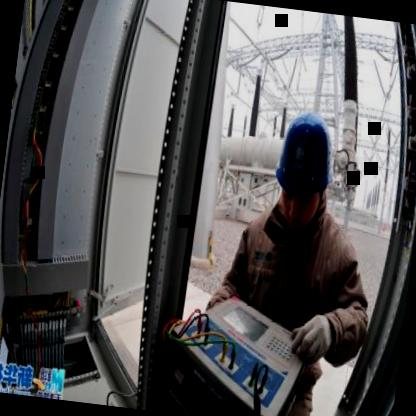helmet: (268, 101, 338, 235)
